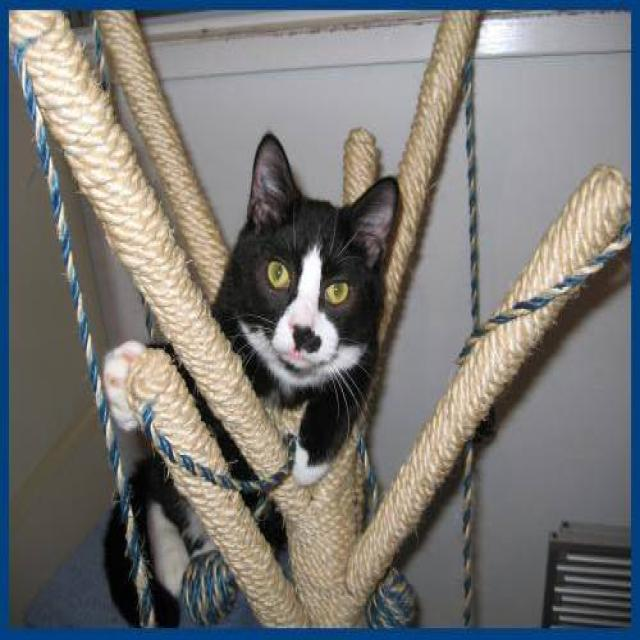cat: (101, 129, 401, 626)
